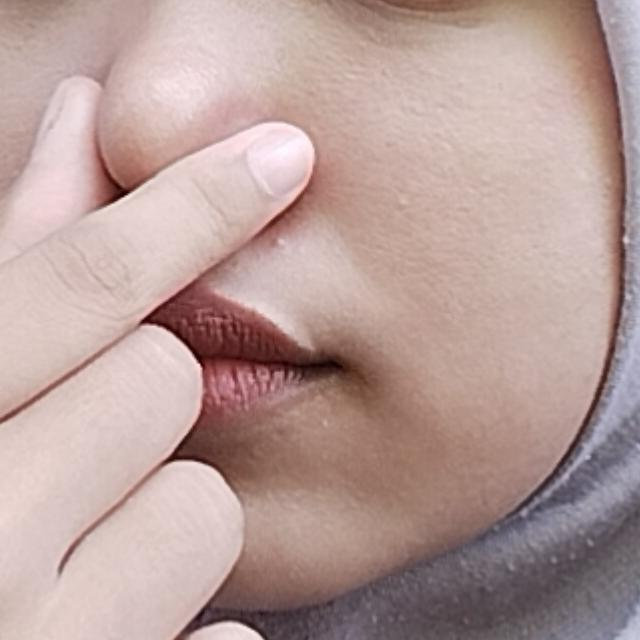bau: (0, 68, 415, 640)
